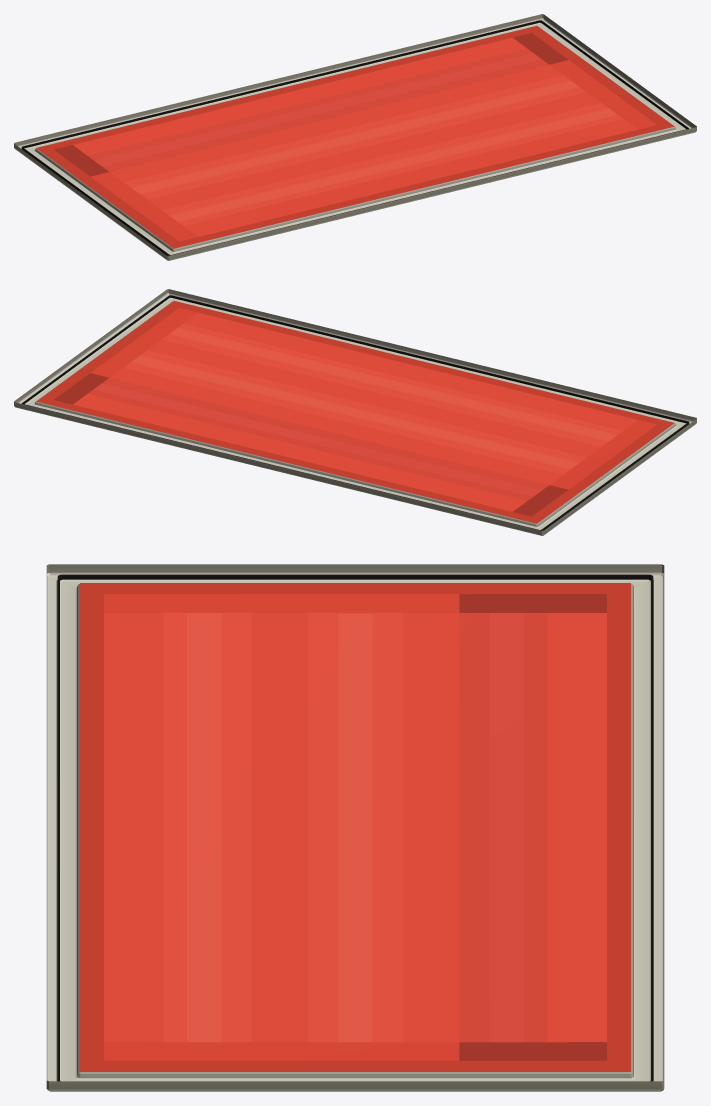
File: troffer_red@1.glb
The picture shows the model from 3 angles, top to bottom: view 1: azimuth 30°, elevation 25°; view 2: azimuth 150°, elevation 25°; view 3: azimuth 270°, elevation 25°; orthographic projection. The views are drawn at different scales.
Visible parts, largest first — view 1: rasterleuchte; view 2: rasterleuchte; view 3: rasterleuchte.
Part boxes in pixels (x1=…): rasterleuchte: x1=14, y1=14, x2=696, y2=260; rasterleuchte: x1=14, y1=289, x2=696, y2=535; rasterleuchte: x1=46, y1=564, x2=664, y2=1091.
Bounding box in the file's own units: 1.21 × 0.0122 × 0.612.
